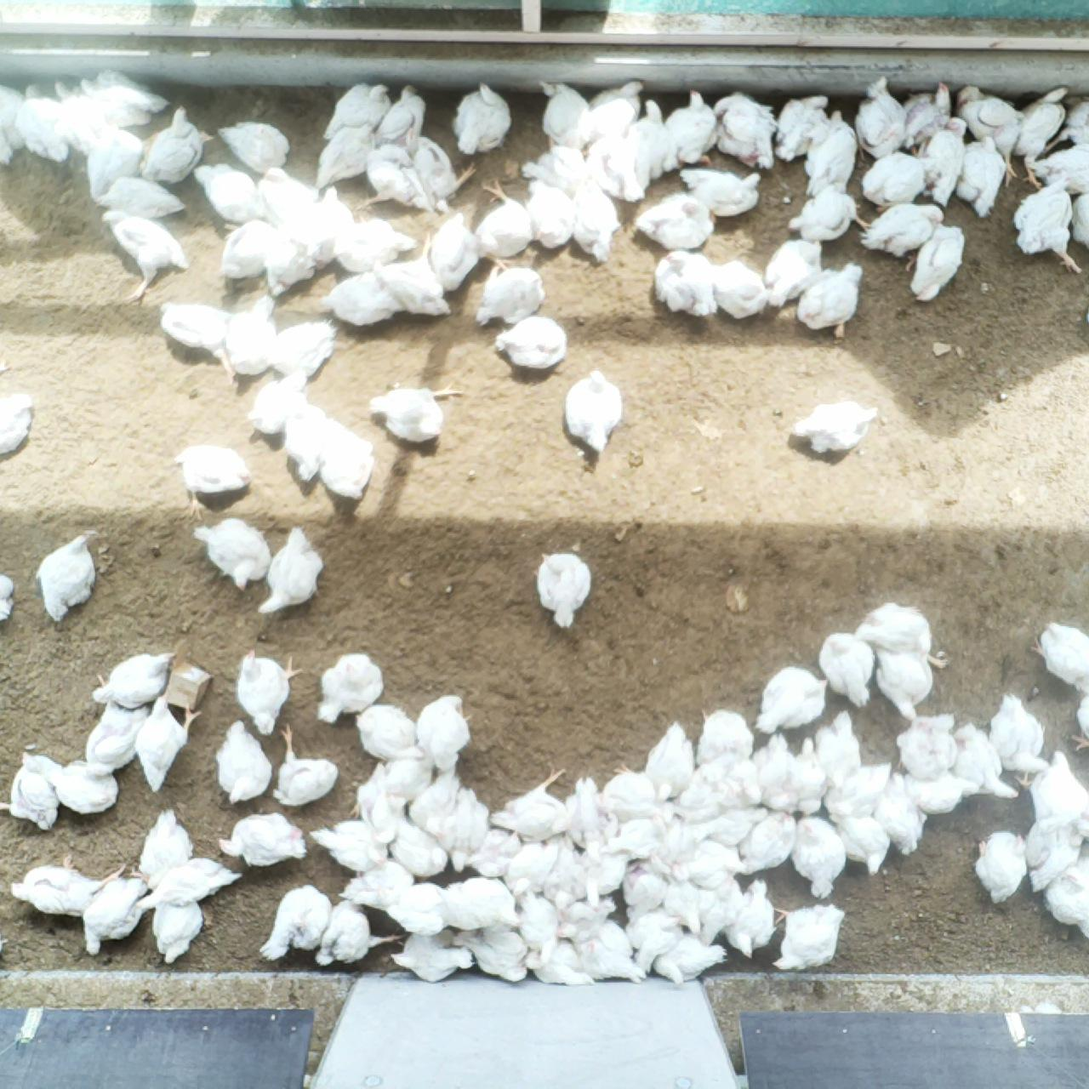chicken: (101, 208, 187, 307), (307, 896, 406, 971), (10, 855, 126, 916), (135, 690, 203, 793), (491, 764, 582, 840), (375, 234, 456, 319), (1011, 180, 1082, 275), (430, 214, 515, 292), (160, 302, 239, 384), (957, 84, 1023, 181), (1010, 86, 1072, 189), (360, 142, 443, 216), (859, 600, 949, 667), (257, 526, 325, 614), (257, 886, 332, 964), (83, 692, 151, 778), (1021, 751, 1089, 837), (369, 383, 463, 445), (456, 922, 545, 987), (81, 880, 150, 961), (272, 727, 341, 808), (135, 858, 244, 909), (16, 86, 91, 160), (195, 518, 272, 590), (238, 652, 305, 734), (36, 533, 96, 624), (678, 755, 760, 821), (314, 653, 387, 726), (348, 758, 411, 841), (952, 724, 1020, 800), (219, 812, 308, 870), (711, 91, 777, 169), (474, 258, 548, 327), (989, 690, 1050, 773), (796, 263, 865, 336), (91, 650, 176, 709), (757, 664, 829, 733), (0, 754, 62, 834), (792, 400, 882, 455), (137, 809, 195, 894), (332, 219, 417, 277), (774, 905, 848, 971), (793, 816, 850, 901), (392, 925, 474, 984), (336, 860, 429, 912), (578, 917, 649, 985), (437, 785, 492, 872), (804, 110, 859, 197), (875, 636, 934, 717), (143, 106, 205, 183), (410, 132, 480, 200), (263, 319, 341, 380), (50, 77, 138, 131), (1025, 814, 1089, 888), (444, 870, 524, 929), (590, 125, 649, 205), (918, 117, 971, 206), (611, 810, 688, 871), (214, 722, 271, 804), (476, 179, 535, 258), (566, 372, 624, 452), (650, 819, 734, 874), (297, 188, 356, 266), (356, 701, 429, 764), (310, 817, 395, 871), (861, 154, 940, 212), (570, 173, 621, 262), (875, 773, 929, 857), (229, 293, 283, 377), (375, 744, 443, 810), (788, 191, 871, 245), (80, 70, 166, 122), (909, 227, 966, 305), (192, 163, 267, 222), (676, 169, 768, 217), (173, 442, 253, 497), (323, 271, 404, 325), (95, 173, 188, 220), (861, 205, 945, 257), (596, 761, 671, 819), (853, 80, 908, 159), (420, 693, 469, 781), (314, 125, 378, 192), (775, 94, 836, 164), (956, 136, 1008, 218), (249, 366, 309, 437), (819, 630, 875, 705), (902, 765, 981, 818), (664, 89, 718, 166), (254, 164, 322, 225), (586, 80, 647, 148), (1034, 621, 1089, 696), (323, 83, 394, 141), (647, 720, 696, 804), (635, 197, 711, 251), (895, 713, 959, 777), (539, 552, 592, 629), (213, 117, 290, 170), (407, 771, 466, 840), (725, 880, 783, 950), (89, 123, 143, 198), (825, 764, 892, 824), (45, 760, 122, 812), (325, 425, 375, 505), (710, 260, 775, 321), (693, 872, 748, 944), (654, 250, 712, 318), (455, 84, 512, 153), (384, 883, 461, 934), (494, 317, 568, 370), (287, 398, 332, 485), (217, 220, 280, 282), (262, 229, 325, 291), (513, 891, 563, 969), (522, 144, 594, 198), (564, 773, 615, 849), (814, 710, 864, 787), (653, 935, 727, 987), (742, 812, 801, 876), (766, 239, 823, 305), (626, 904, 681, 972), (1016, 138, 1089, 189), (389, 815, 451, 875), (538, 83, 590, 154), (838, 811, 893, 878), (153, 892, 204, 964), (903, 83, 954, 155), (1045, 857, 1089, 940), (974, 832, 1024, 905), (523, 180, 574, 251), (752, 733, 797, 813), (694, 707, 753, 768), (372, 84, 429, 146), (568, 845, 629, 902), (528, 938, 596, 989), (675, 842, 748, 889), (663, 867, 712, 935), (620, 858, 680, 912), (631, 98, 671, 179), (504, 843, 563, 897), (544, 839, 590, 907), (1040, 98, 1089, 159), (554, 896, 619, 941), (793, 735, 827, 817), (465, 829, 525, 875), (703, 803, 771, 843), (0, 391, 35, 460), (0, 83, 28, 165), (1071, 190, 1089, 254), (0, 572, 16, 622), (1077, 691, 1089, 753)
